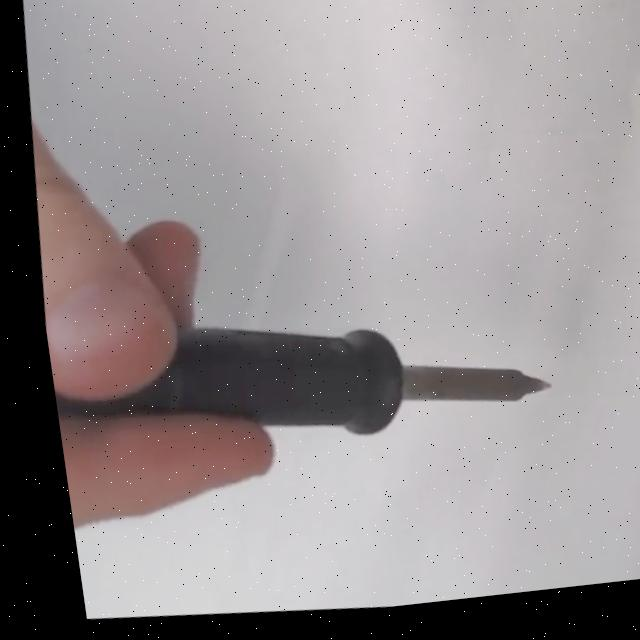soldering_iron: (47, 277, 561, 481)
